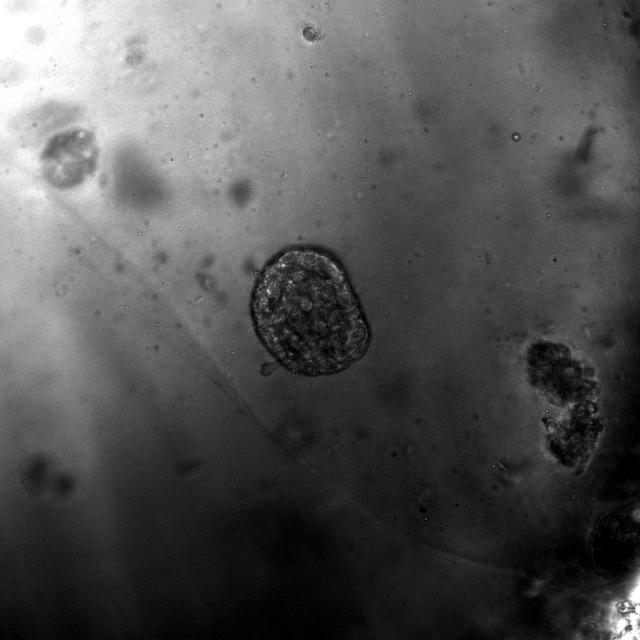organoid: (249, 245, 371, 376), (528, 341, 603, 473), (40, 128, 98, 188), (19, 453, 77, 498), (301, 23, 323, 43)
